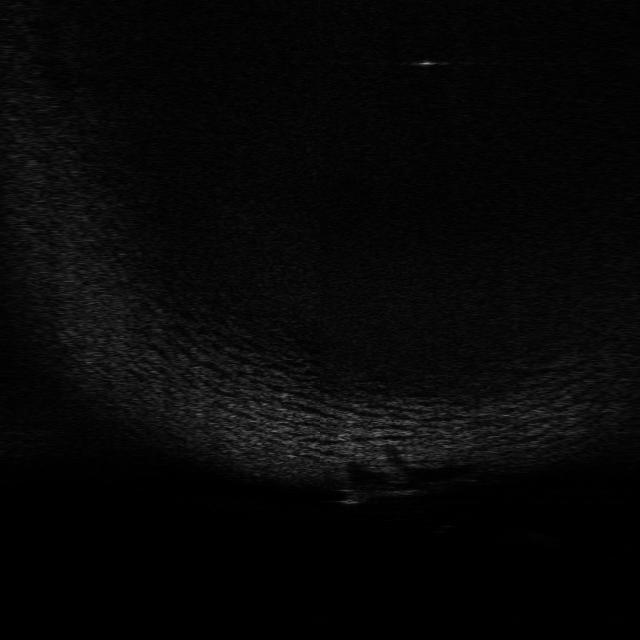plane: (334, 478, 420, 506)
